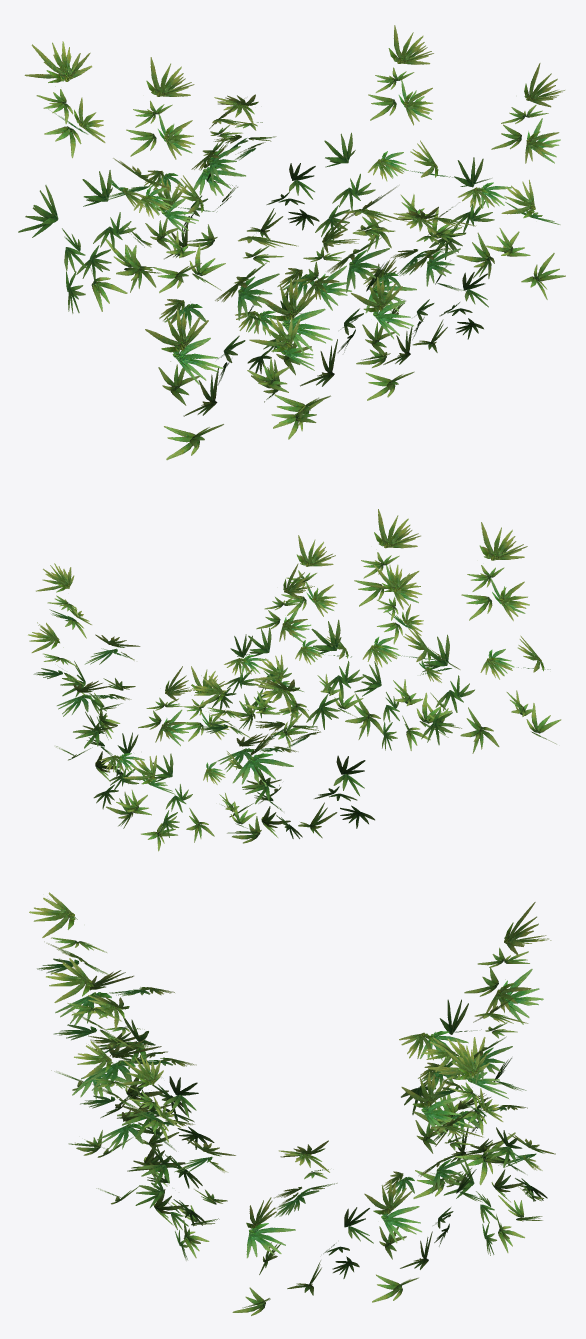
File: Area_05_4.fbx
3 renders of one model, top to bottom at view 1: azimuth 30°, elevation 25°; view 2: azimuth 150°, elevation 25°; view 3: azimuth 270°, elevation 25°, orthographic. The views are drawn at different scales.
Visible parts, largest first — view 1: Area_05_4; view 2: Area_05_4; view 3: Area_05_4.
Boxes of the visible parts, x1=… form: Area_05_4: x1=18, y1=25, x2=565, y2=460; Area_05_4: x1=28, y1=509, x2=561, y2=851; Area_05_4: x1=29, y1=892, x2=555, y2=1315.
Bounding box in the file's own units: 7110 × 3388 × 6468.
